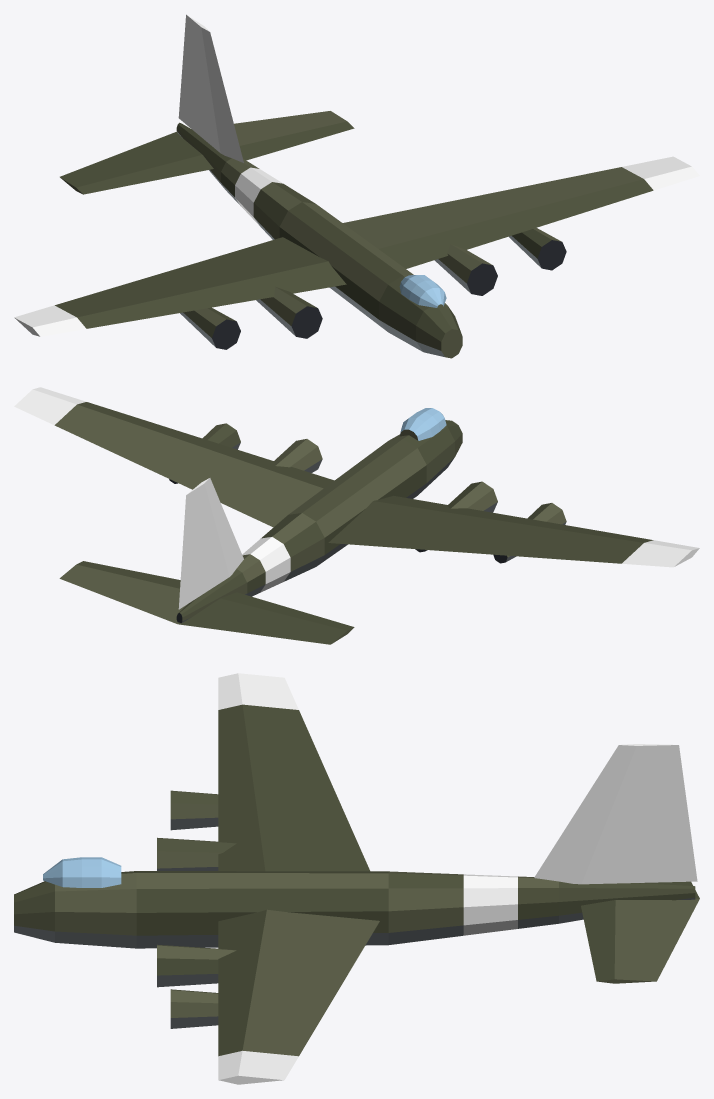
Rendered from bomber_ww2.glb.
The picture shows the model from 3 angles, top to bottom: view 1: azimuth 30°, elevation 25°; view 2: azimuth 150°, elevation 25°; view 3: azimuth 270°, elevation 25°; orthographic projection. The views are drawn at different scales.
Visible parts, largest first — view 1: body; view 2: body; view 3: body.
Boxes of the visible parts, x1,y1,x2,y2 form: body: (14,14,699,358); body: (14,387,699,644); body: (14,673,699,1084).
Bounding box in the file's own units: 31.6 × 7.38 × 22.76.
